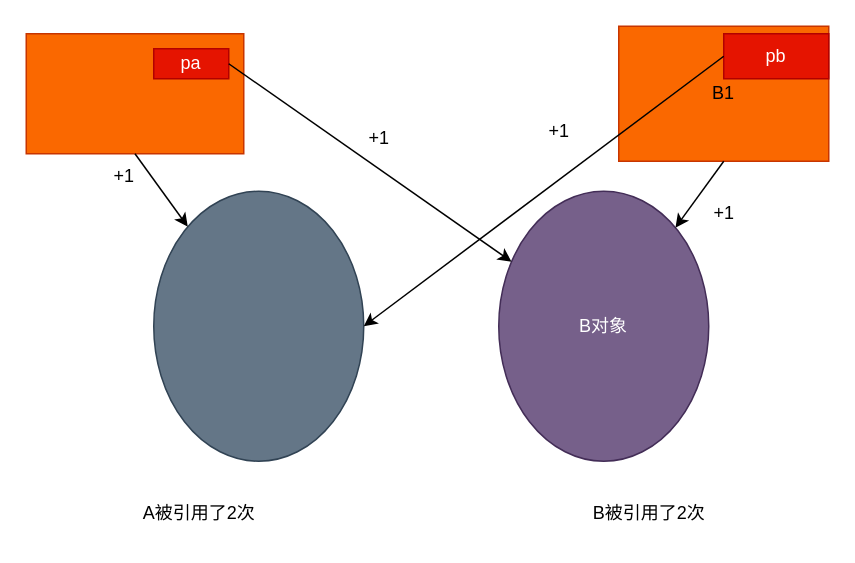
Image size: 855x563. Some labels were removed from this diagram. The shapes that lost their labels are listed below. From the top down, each one's box as (x1, y1, x2, y2) in pixels, then its label:
(25, 32, 244, 154): A1
(152, 190, 364, 461): A对象
